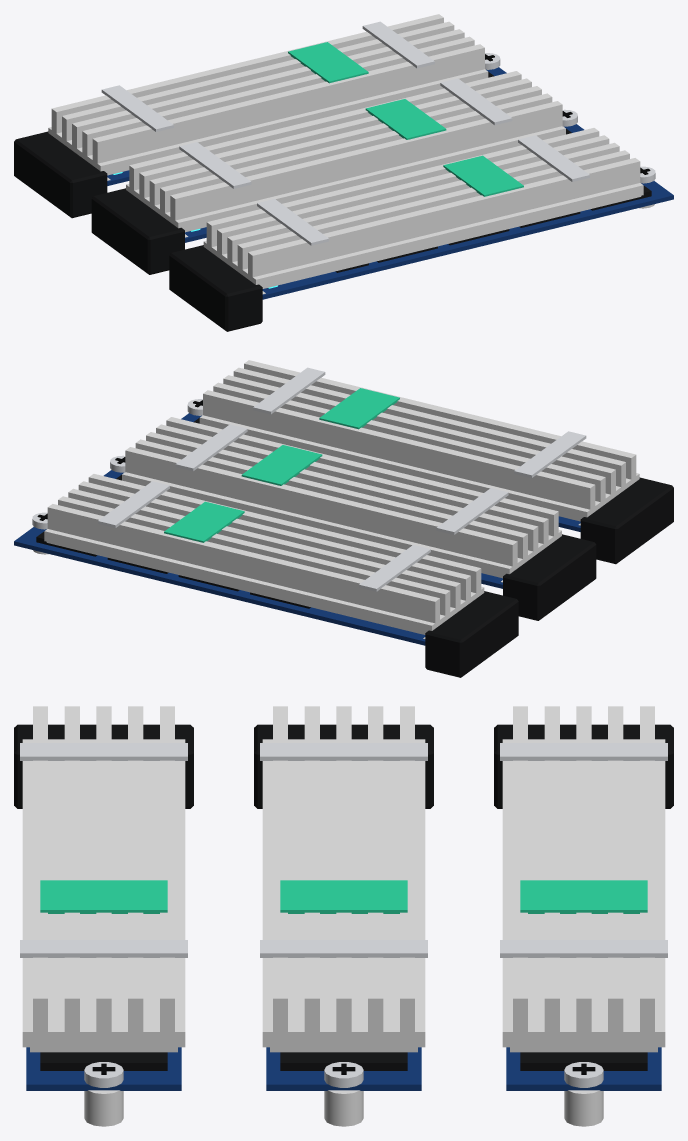
Rendered from hwm_sto_nvme5_64tb.glb.
3 views of the same model, one above another, from view 1: azimuth 30°, elevation 25°; view 2: azimuth 150°, elevation 25°; view 3: azimuth 270°, elevation 25° (orthographic). The views are drawn at different scales.
Visible parts, largest first — view 1: SSD_2, SSD_0, SSD_1, Slots; view 2: SSD_0, SSD_2, SSD_1, Slots; view 3: SSD_0, SSD_1, SSD_2, Slots, Screw_0, Screw_1, Screw_2.
Part boxes in pixels (x1,y1,x2,y2): SSD_2: (203, 128, 673, 299); SSD_0: (48, 14, 506, 185); SSD_1: (126, 71, 584, 242); Slots: (14, 67, 654, 331); SSD_0: (14, 474, 484, 645); SSD_2: (181, 360, 639, 531); SSD_1: (103, 417, 561, 588); Slots: (33, 413, 673, 677); SSD_0: (500, 706, 667, 1090); SSD_1: (260, 706, 427, 1090); SSD_2: (20, 706, 187, 1090); Slots: (14, 724, 673, 1126); Screw_0: (564, 1062, 603, 1087); Screw_1: (324, 1062, 363, 1087); Screw_2: (84, 1062, 123, 1087).
Bounding box in the file's own units: 0.1155 × 0.0164 × 0.0935.
